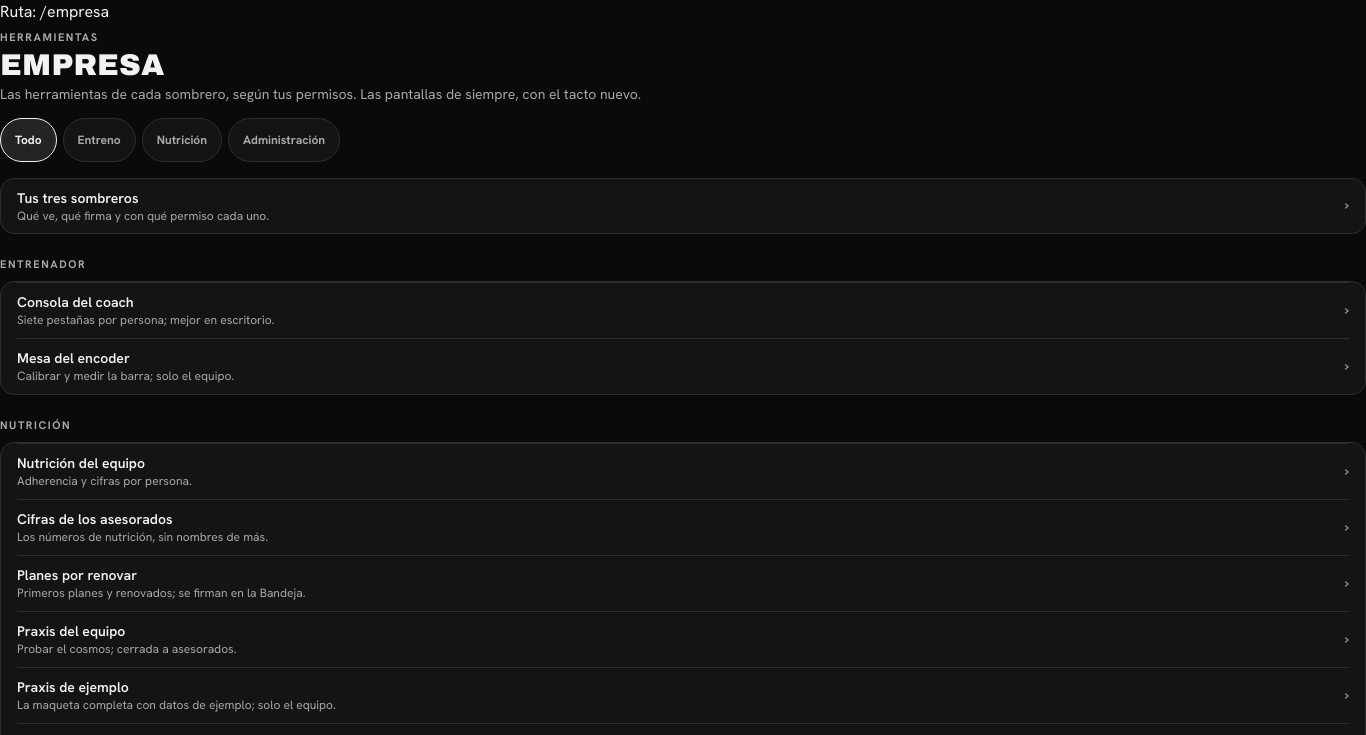
Test: la pantalla Empresa › el filtro de sombrero esconde los otros dos grupos
Click the button "Nutrición" at (182, 140), box [142,118,222,162]
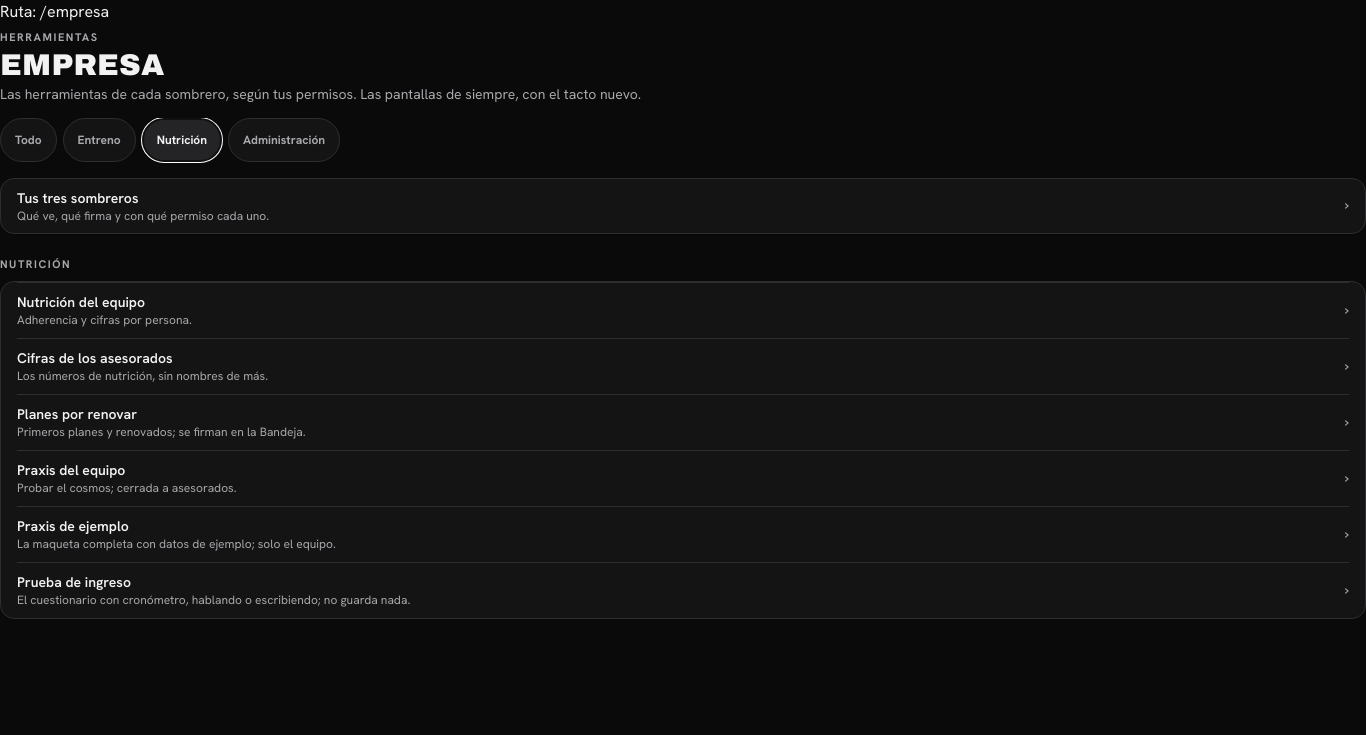
Expected: the heading "Nutrición" is shown, [0,257,71,271]
Expected: the heading "Entrenador" is gone
